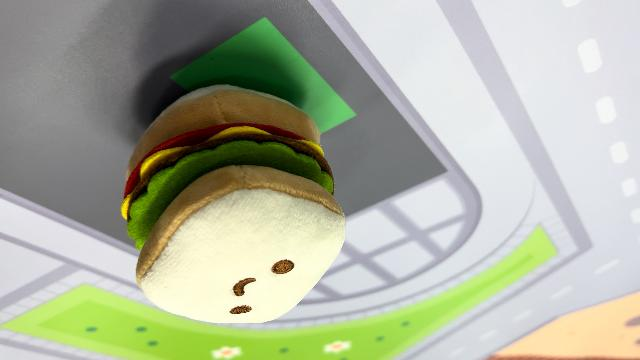sandwich: (119, 81, 349, 324)
